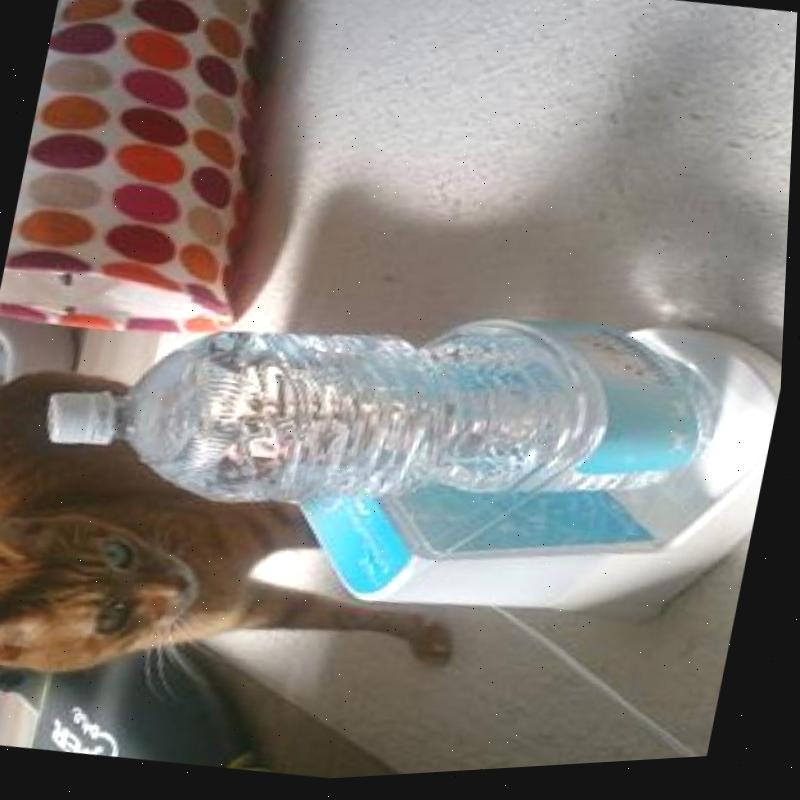botella: (31, 248, 740, 588)
